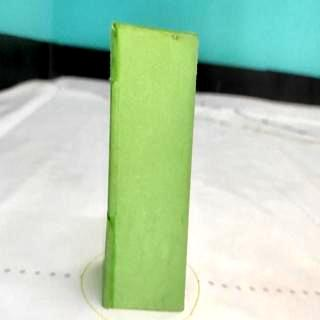greenbox: (107, 21, 198, 308)
